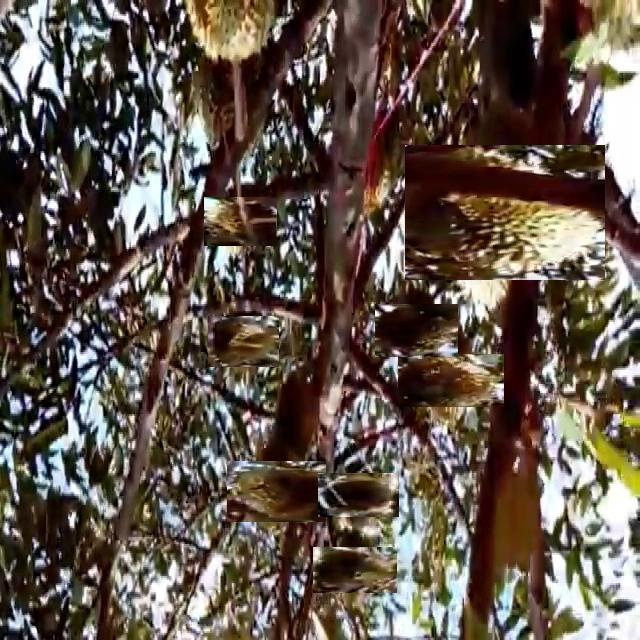durian: (421, 129, 589, 297), (187, 2, 285, 69), (236, 451, 317, 531), (410, 341, 490, 421), (185, 49, 240, 143), (382, 296, 450, 365), (322, 537, 387, 603), (327, 464, 390, 527), (212, 311, 274, 372), (210, 190, 271, 252)
